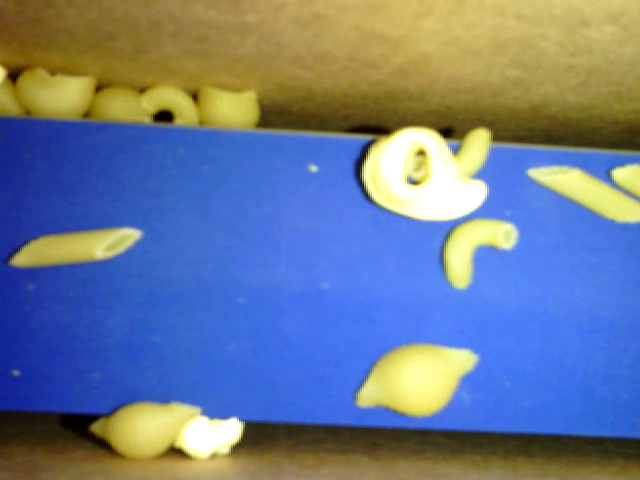elbow: (443, 222, 516, 289), (407, 128, 491, 182), (141, 84, 203, 125)
penne: (524, 167, 639, 221), (11, 228, 146, 267), (610, 162, 639, 202)
shell: (356, 342, 478, 416), (87, 401, 201, 460), (14, 65, 94, 120), (191, 84, 265, 130), (87, 85, 155, 124)
tortellini: (357, 125, 487, 220)
